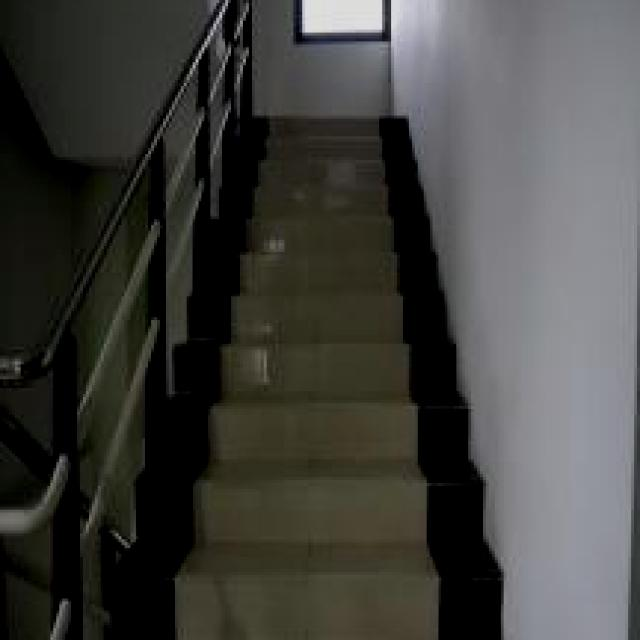upstair: (249, 104, 454, 640)
